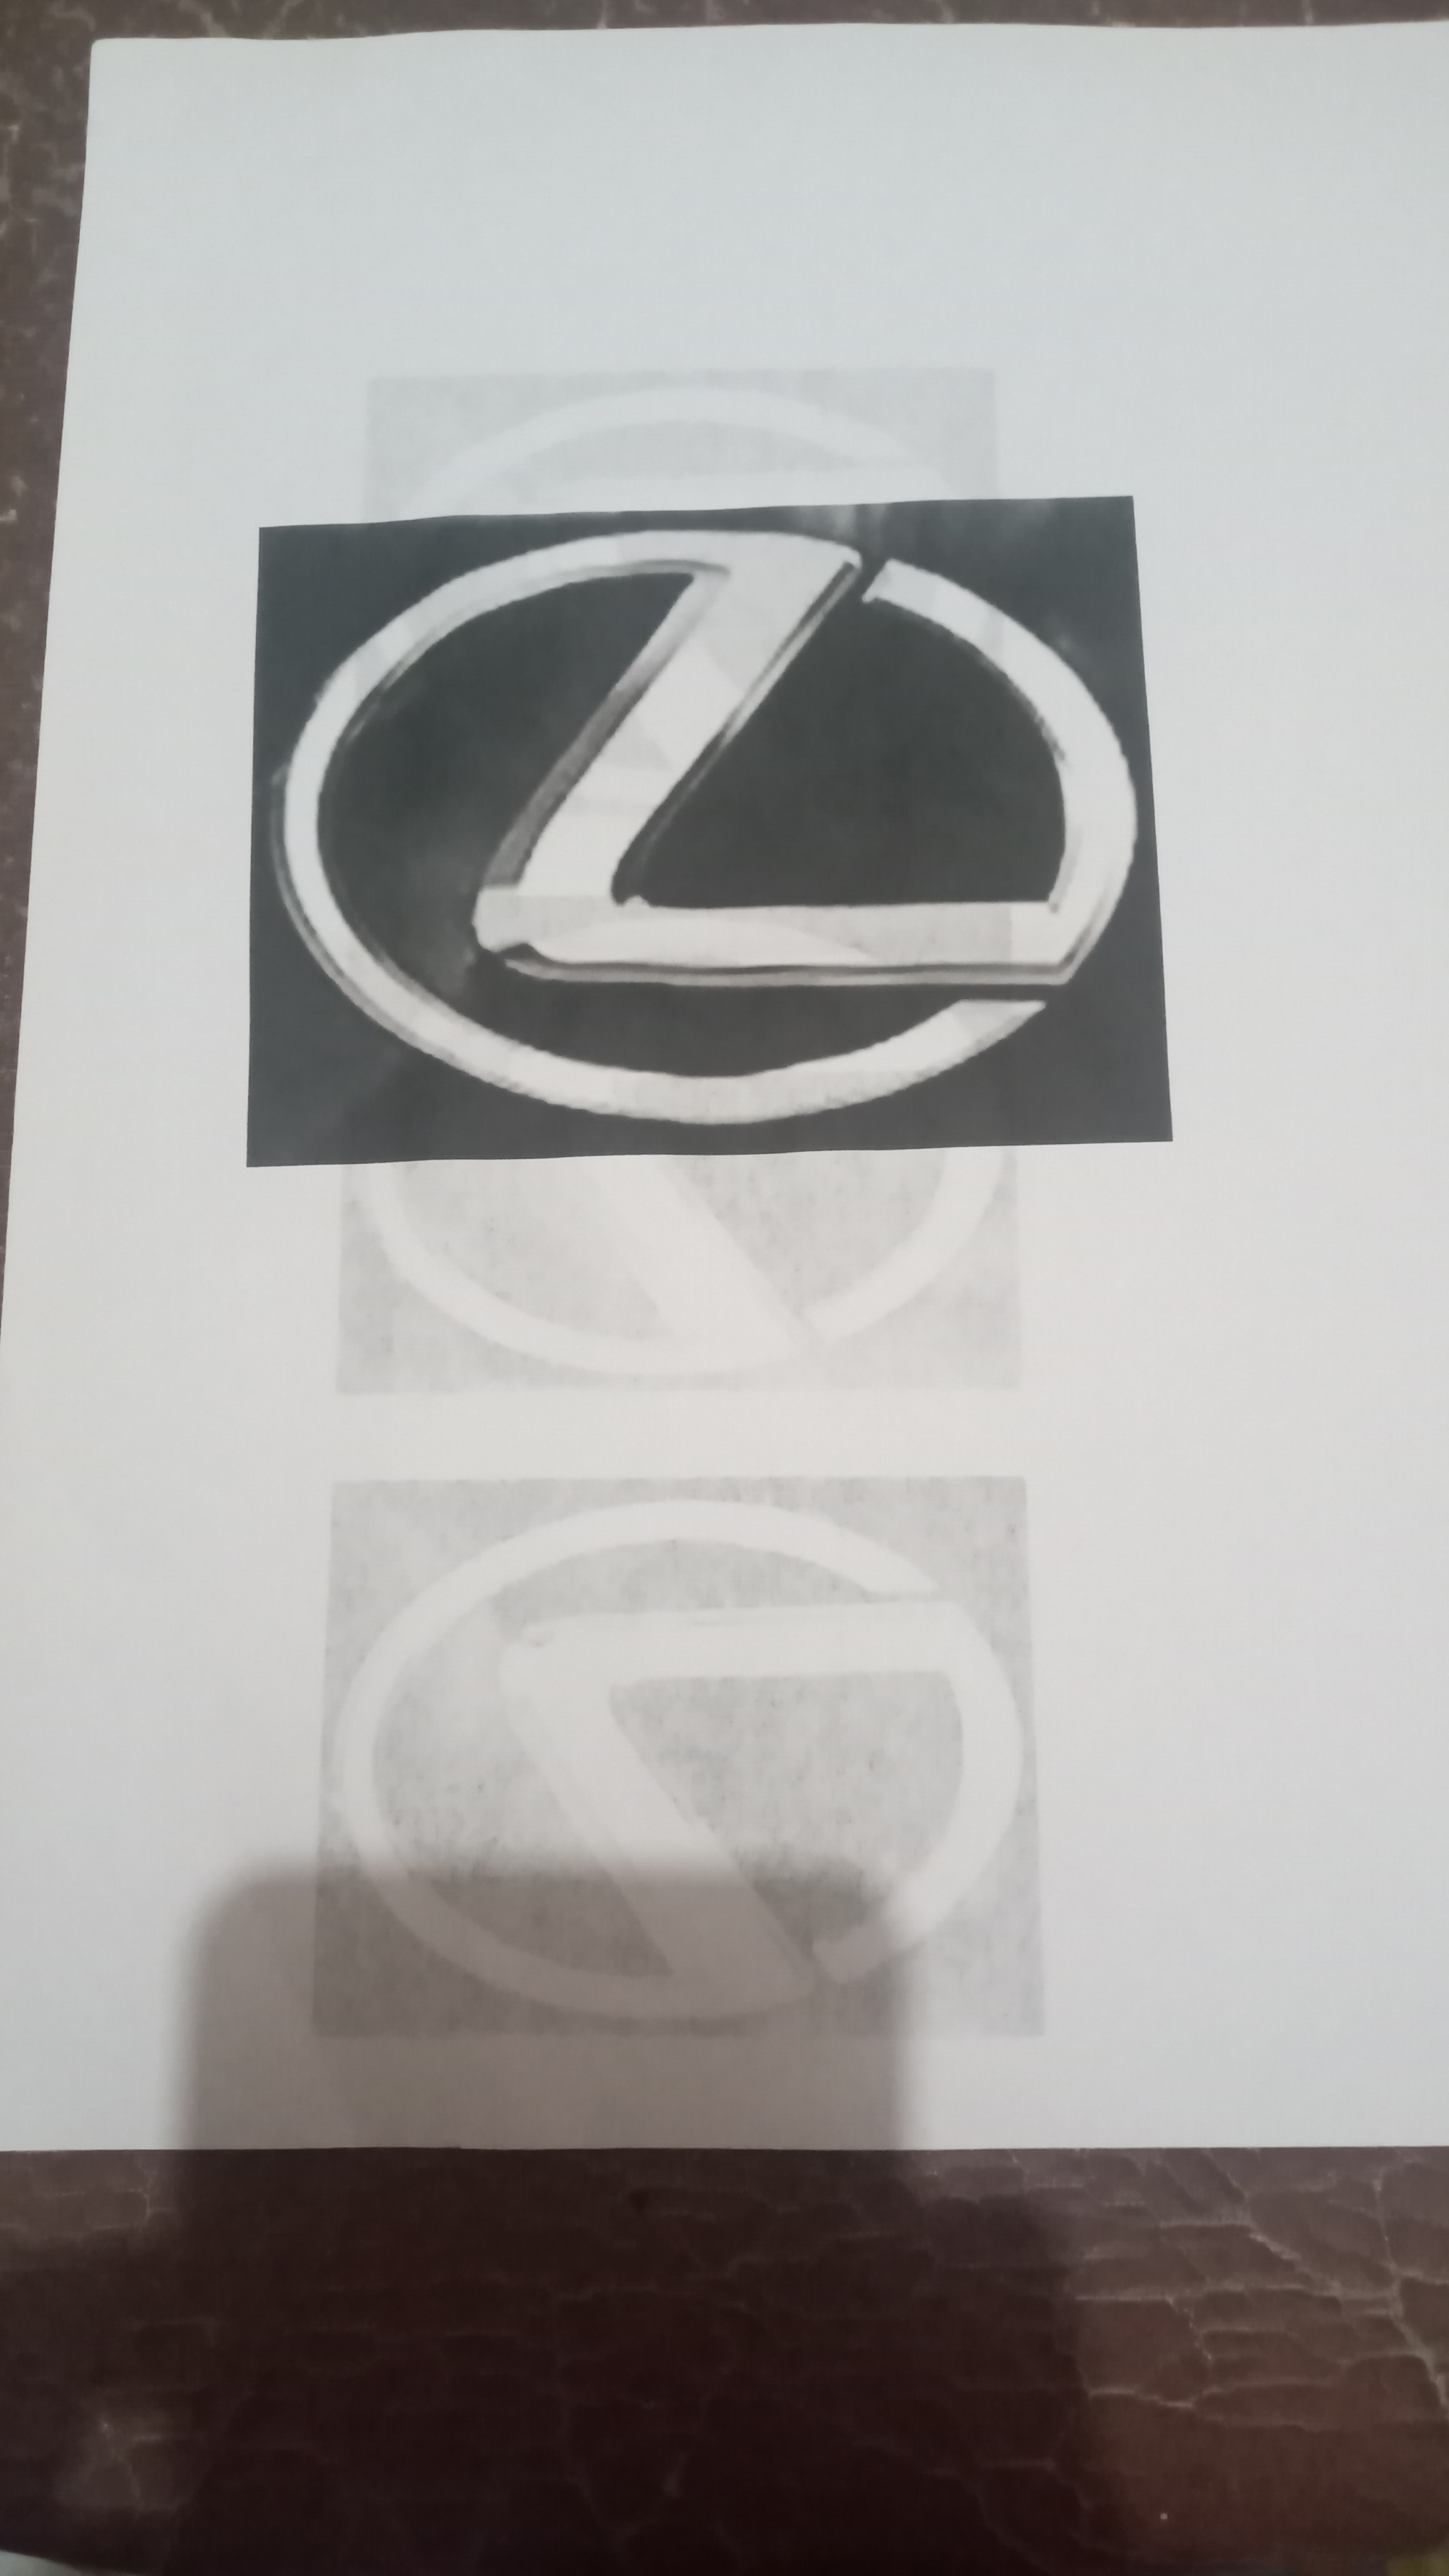Lexus: (262, 522, 1168, 1139)
